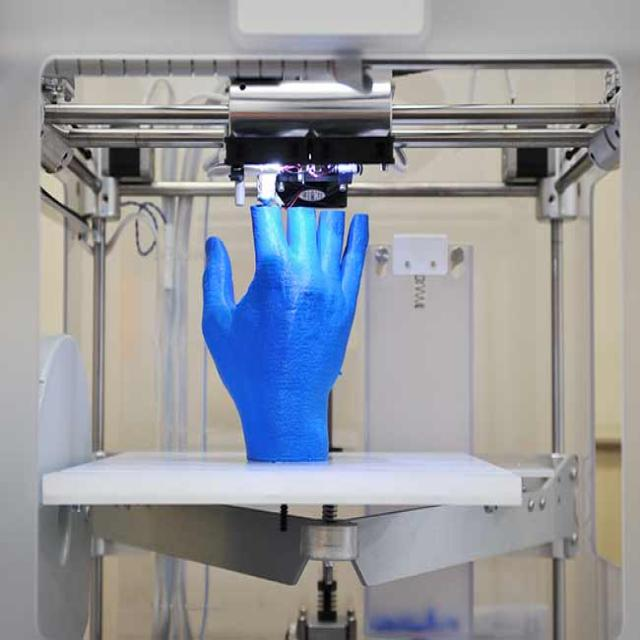Without deffect: (195, 199, 380, 469)
